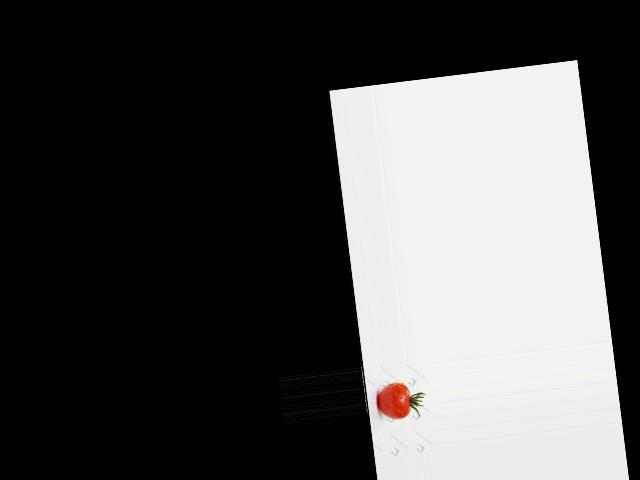tomato: (375, 382, 412, 422)
